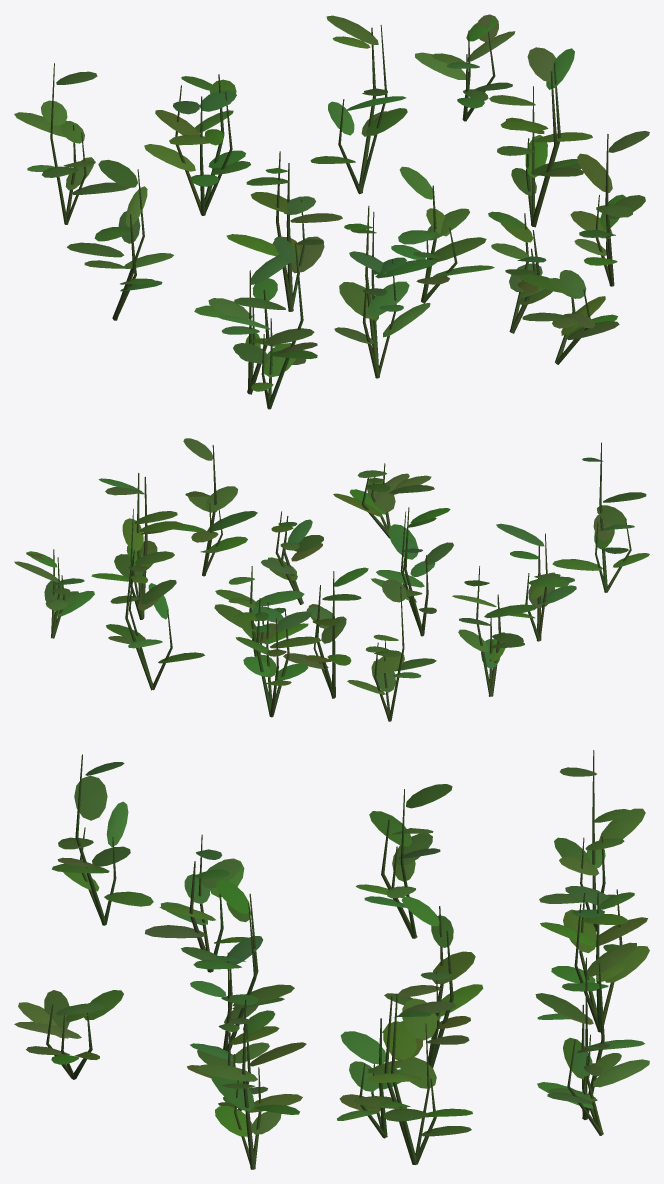
File: MGC_003.glb
3 renders of one model, top to bottom at view 1: azimuth 30°, elevation 25°; view 2: azimuth 150°, elevation 25°; view 3: azimuth 270°, elevation 25°, orthographic. The views are drawn at different scales.
Parts seen in each view (by area): view 1: moss_ground_cover_mgc_003; view 2: moss_ground_cover_mgc_003; view 3: moss_ground_cover_mgc_003.
Boxes of the visible parts, x1=… form: moss_ground_cover_mgc_003: x1=14, y1=14, x2=649, y2=409; moss_ground_cover_mgc_003: x1=14, y1=438, x2=649, y2=721; moss_ground_cover_mgc_003: x1=14, y1=750, x2=649, y2=1169.
Bounding box in the file's own units: 0.9542 × 0.4028 × 0.938.
